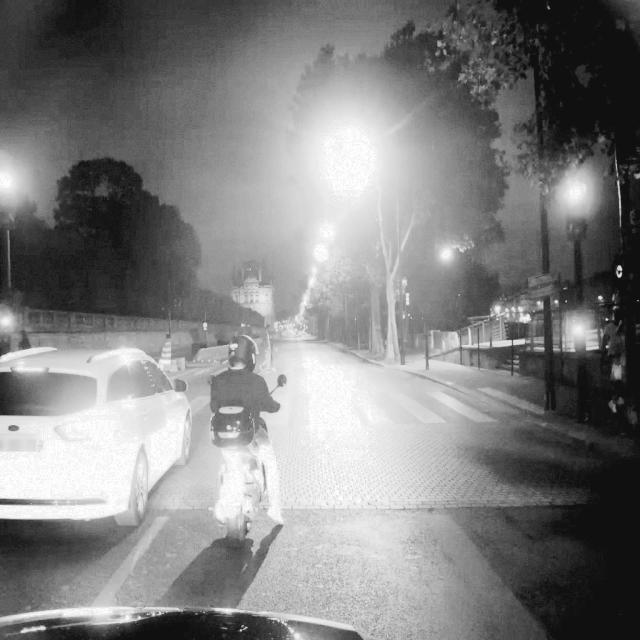Light: (565, 181, 587, 242), (0, 168, 16, 231), (573, 314, 585, 354), (0, 315, 11, 355)
